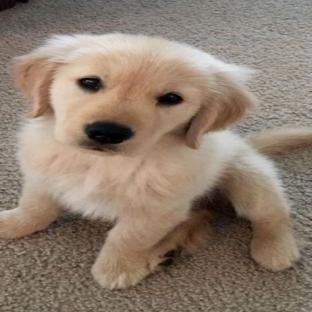Animal: (1, 33, 312, 289)
